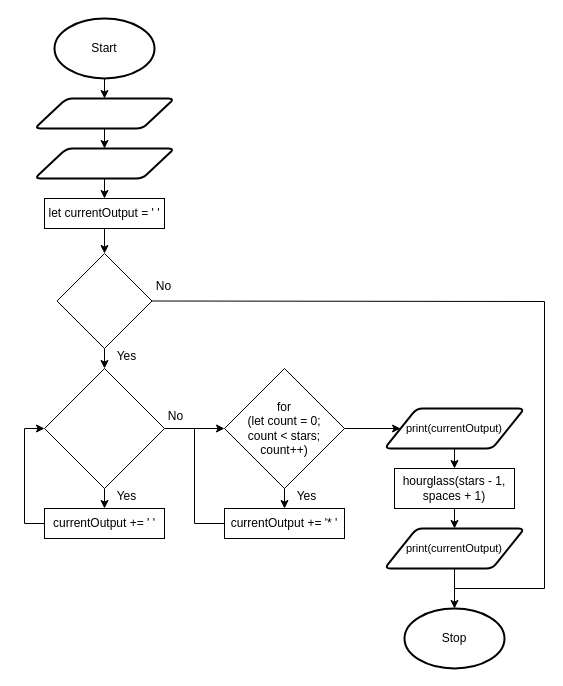
Image size: 563x686. Some labels were removed from this diagram. The centre of each missing label's shape, as x and y in pixels:
for (let count = 0; count < spaces; count++): [104,428]
get spaces: number: [104,163]
get stars: number: [104,113]
if (stars !== 0): [104,300]
